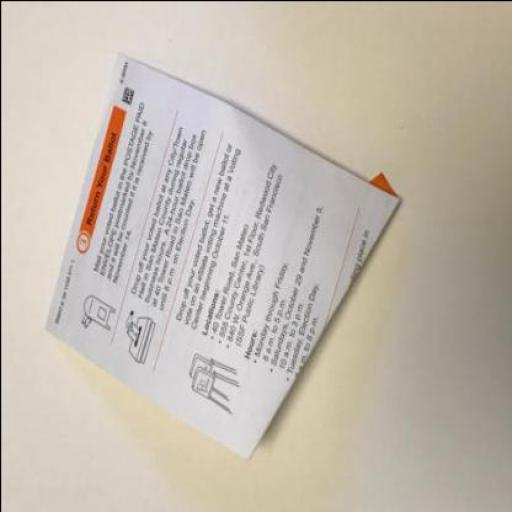paper: (41, 50, 400, 456)
